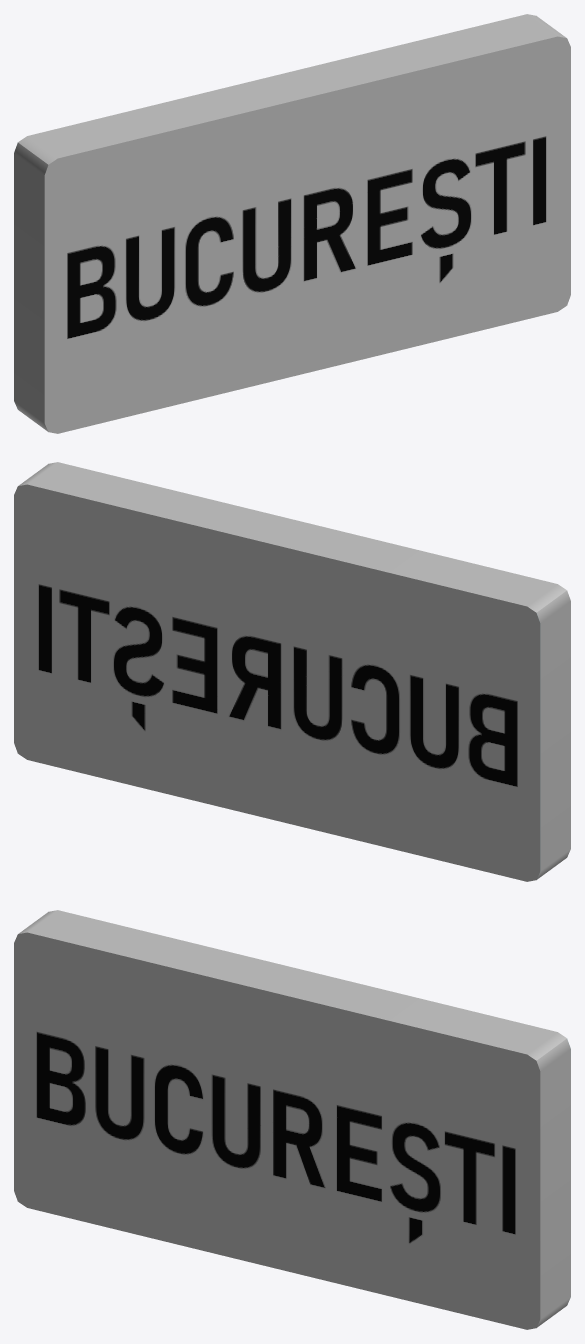
File: ExitSign_HiPoly.obj
The picture shows the model from 3 angles, top to bottom: view 1: azimuth 30°, elevation 25°; view 2: azimuth 150°, elevation 25°; view 3: azimuth 330°, elevation 25°; orthographic projection.
Visible parts, largest first — view 1: pCube1; view 2: pCube1; view 3: pCube1.
Boxes of the visible parts, bbox=[...] form: pCube1: bbox=[14, 14, 570, 433]; pCube1: bbox=[14, 462, 570, 881]; pCube1: bbox=[14, 910, 570, 1329].
Size of the model in its own units: 2 by 1 by 0.2016.
Materials: 1 (1 with a texture image).
